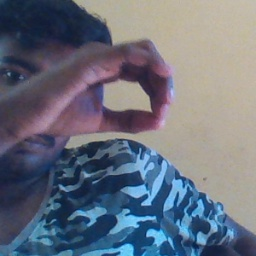O: (28, 30, 180, 149)
